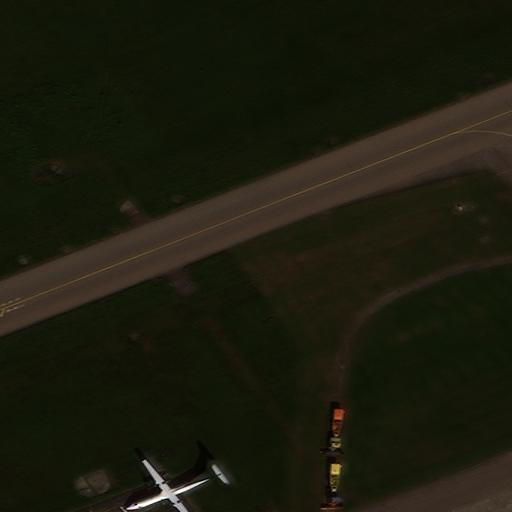Medium Civil Transport: (125, 461, 222, 511)
